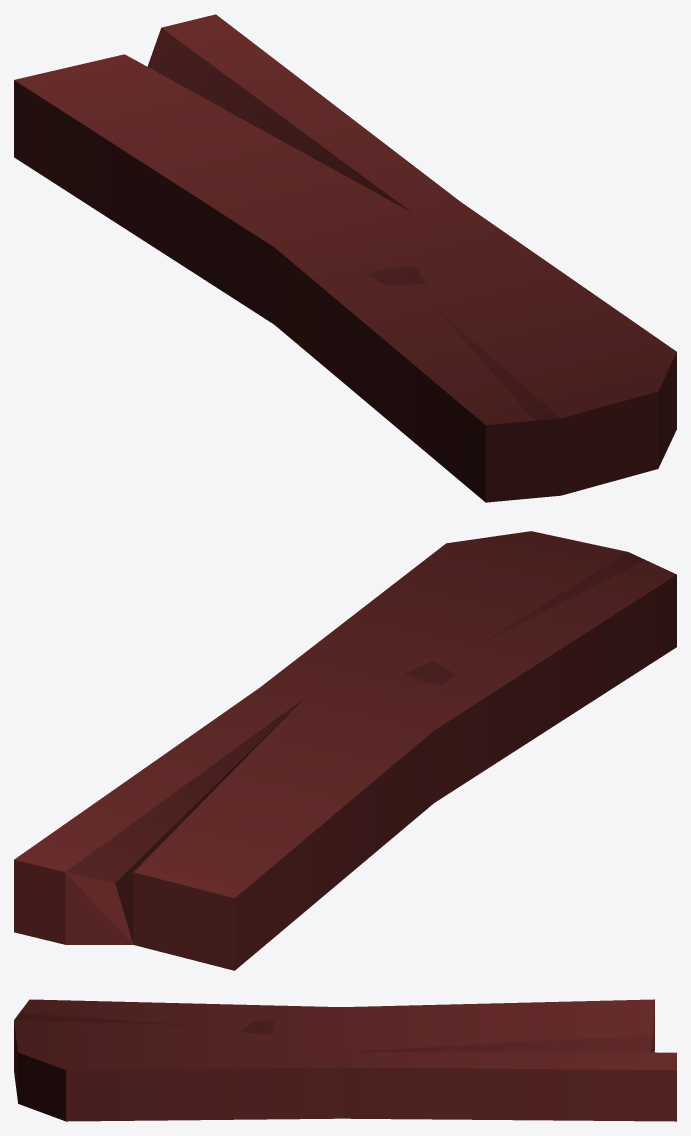
File: wood_3.glb
3 renders of one model, top to bottom at view 1: azimuth 30°, elevation 25°; view 2: azimuth 150°, elevation 25°; view 3: azimuth 270°, elevation 25°, orthographic. The views are drawn at different scales.
Visible parts, largest first — view 1: wood_3; view 2: wood_3; view 3: wood_3.
Boxes of the visible parts, x1=… form: wood_3: x1=14, y1=14, x2=676, y2=502; wood_3: x1=14, y1=531, x2=676, y2=970; wood_3: x1=14, y1=999, x2=676, y2=1121.
Bounding box in the file's own units: 0.5298 × 0.1792 × 2.1.
Materials: 1 (1 with a texture image).
